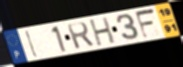1: (50, 25, 68, 54)
3: (116, 14, 141, 42)
F: (134, 7, 158, 40)
H: (89, 15, 117, 48)
I: (25, 29, 40, 59)
R: (65, 21, 96, 50)
